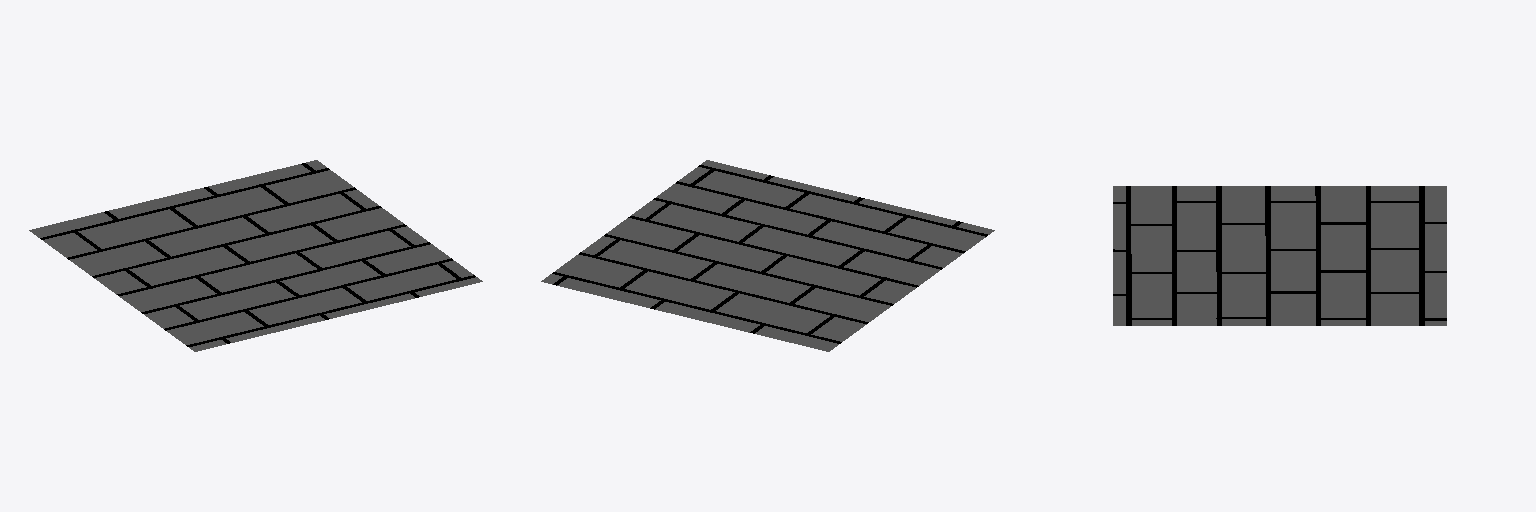
The picture shows the model from 3 angles: view 1: azimuth 30°, elevation 25°; view 2: azimuth 150°, elevation 25°; view 3: azimuth 270°, elevation 25°; orthographic projection.
Visible parts, largest first — view 1: 平面; view 2: 平面; view 3: 平面.
Boxes of the visible parts, x1=… form: 平面: x1=29, y1=160, x2=482, y2=351; 平面: x1=541, y1=160, x2=994, y2=351; 平面: x1=1113, y1=186, x2=1446, y2=325.
Size of the model in its own units: 10 by 0 by 10.
Materials: 1 (1 with a texture image).